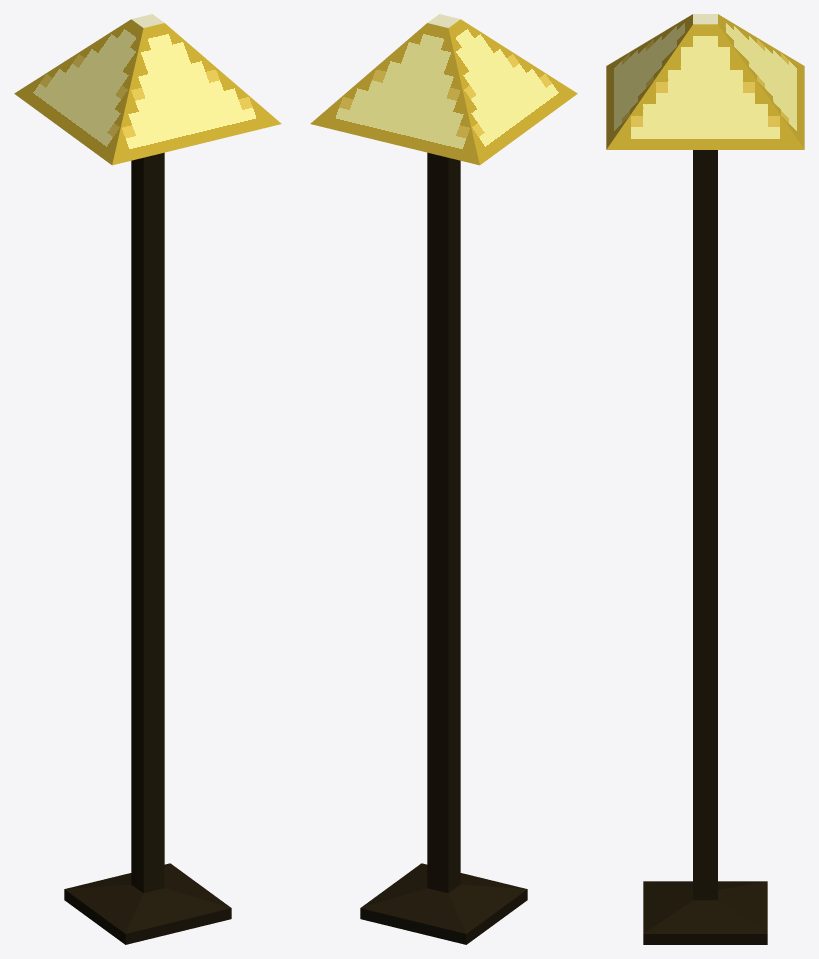
File: standing_lamp.gltf
The picture shows the model from 3 angles, left to right: view 1: azimuth 30°, elevation 25°; view 2: azimuth 150°, elevation 25°; view 3: azimuth 270°, elevation 25°; orthographic projection.
Visible parts, largest first — view 1: body; view 2: body; view 3: body.
Part boxes in pixels (x1=…): body: x1=14, y1=14, x2=281, y2=944; body: x1=310, y1=14, x2=577, y2=944; body: x1=606, y1=14, x2=804, y2=944.
Bounding box in the file's own units: 1 × 5 × 1.
1 material, 1 textured.
